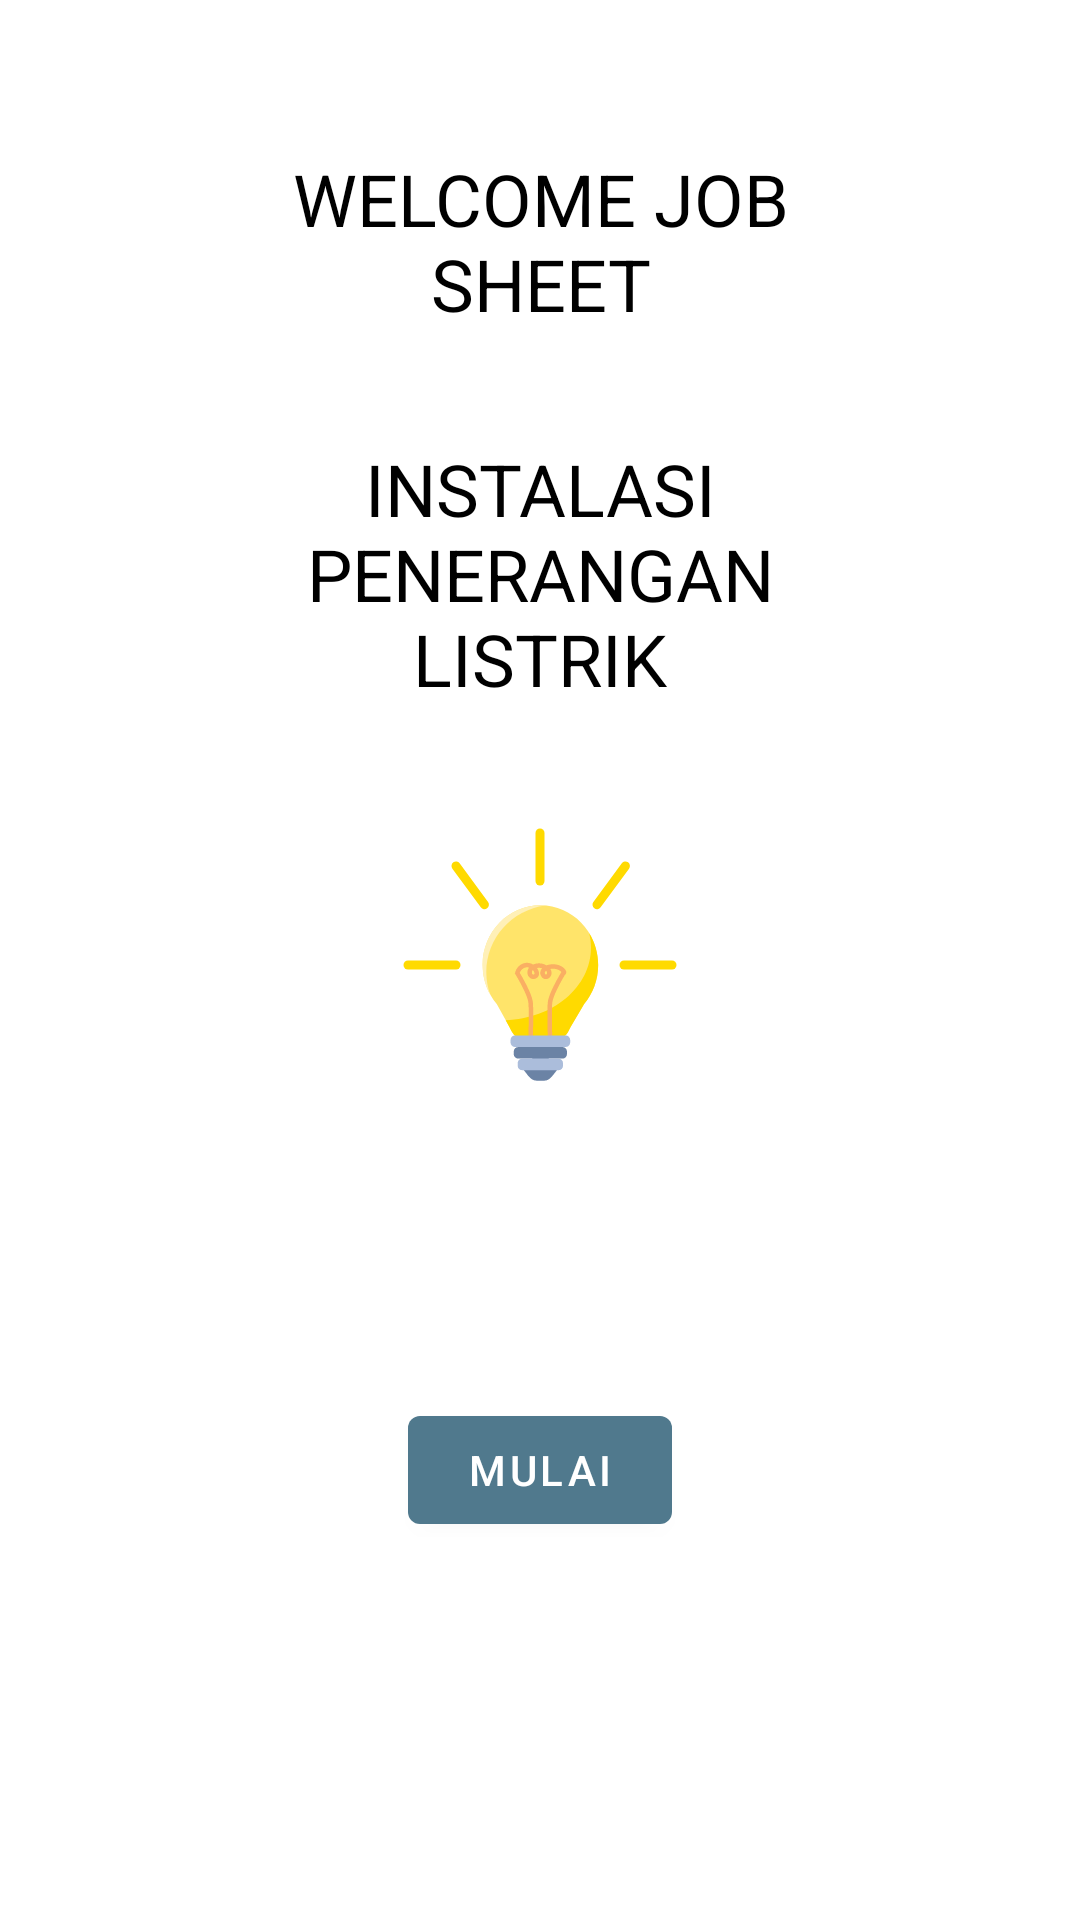

Icons on this 1080w x 1920h Android screen, each with its box as (x1, y1, x2, y2):
lamp: (403, 828, 677, 1081)
